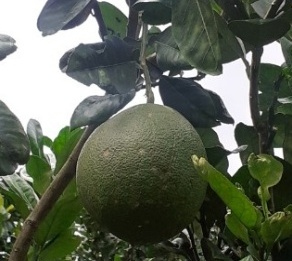Buoi: (74, 99, 211, 245)
